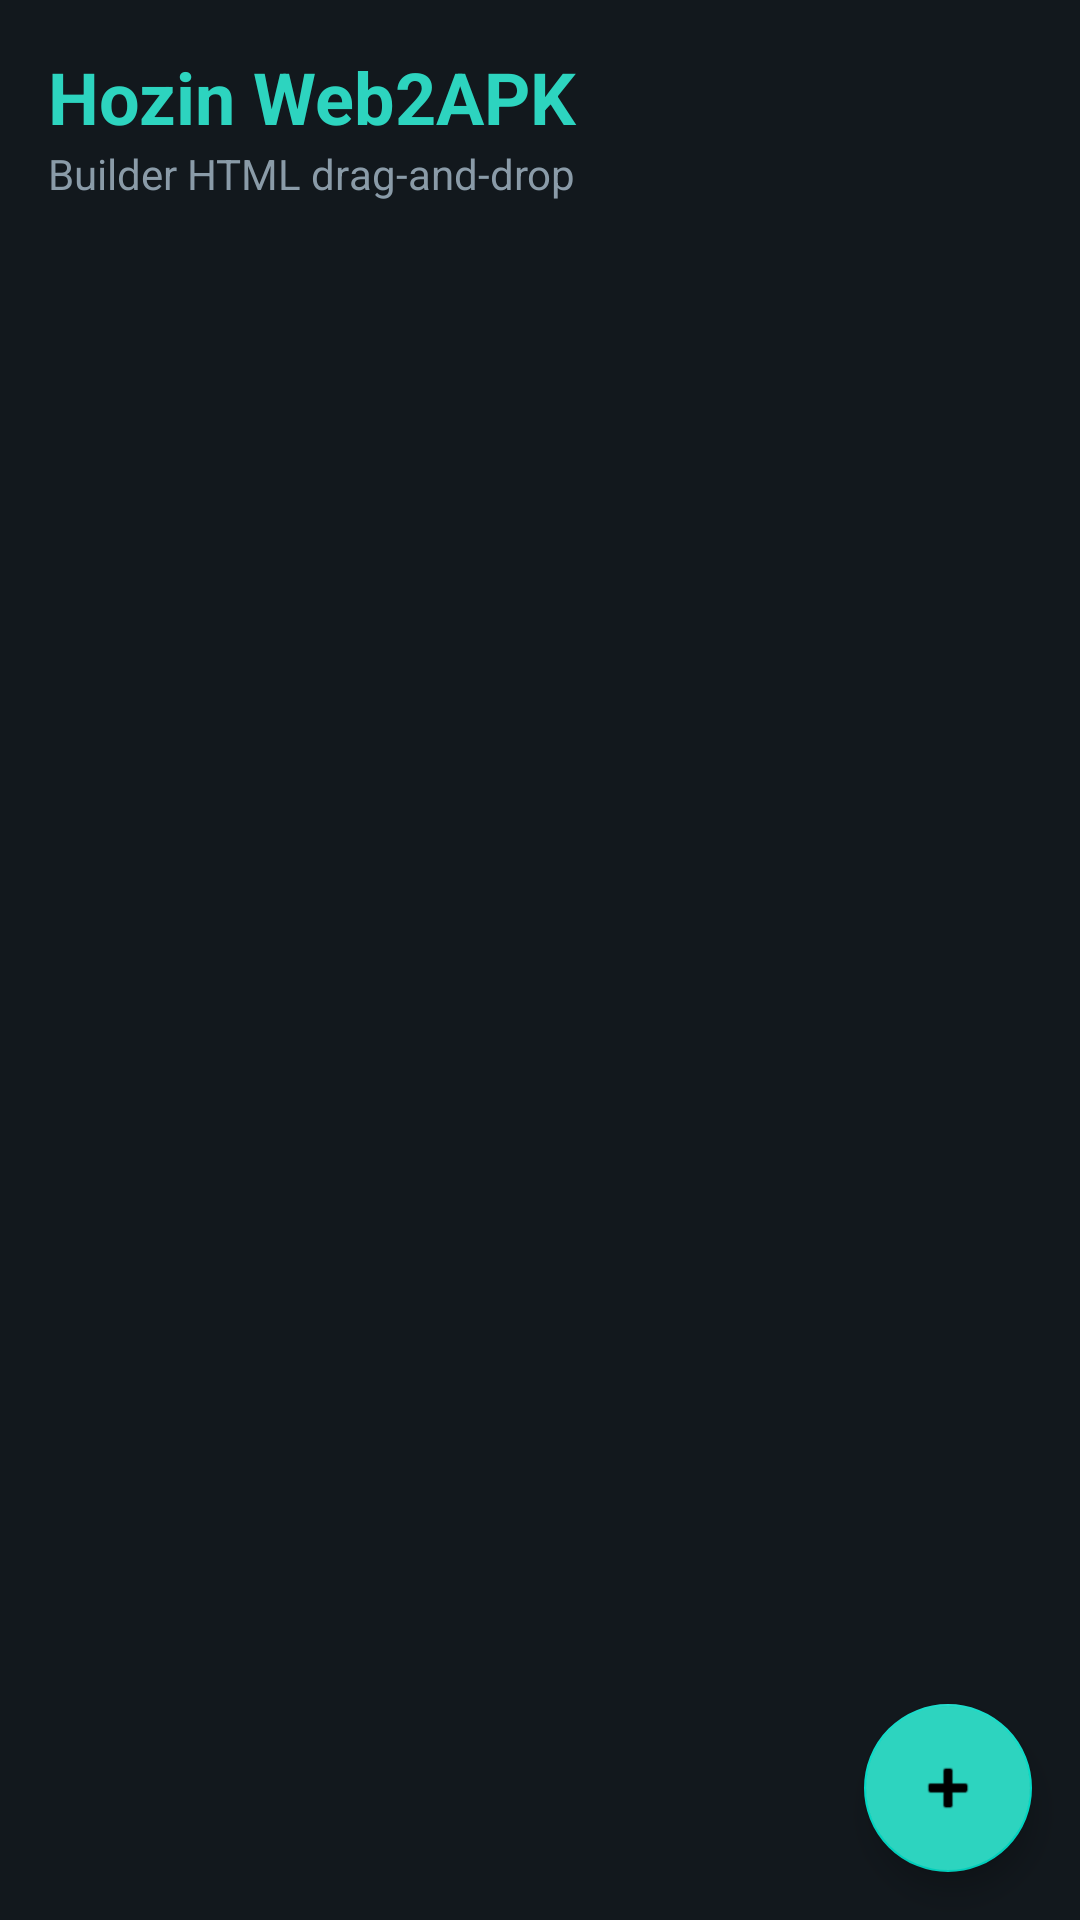

Where to tap for icons on this 1080×1920 app screen, as point (x, y):
Proyek Baru: point (948, 1788)
